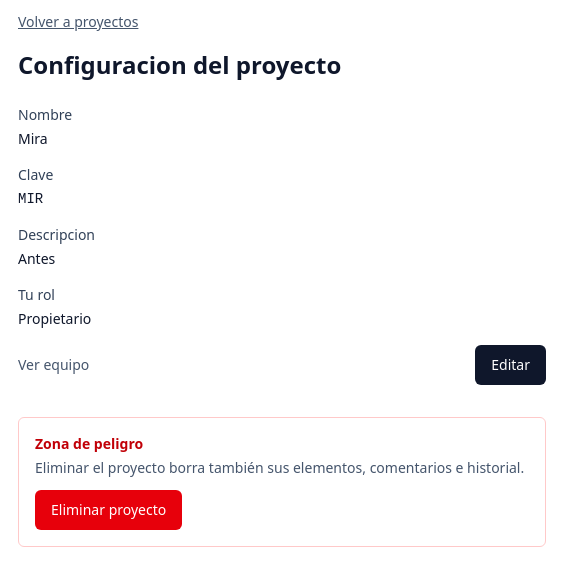
Scenario: ProjectSettingsPage › "Guardar" esta deshabilitado mientras no hay cambios
The image size is (565, 564).
Click the button "Editar" at (511, 365), box x1=475 y1=345 x2=546 y2=385
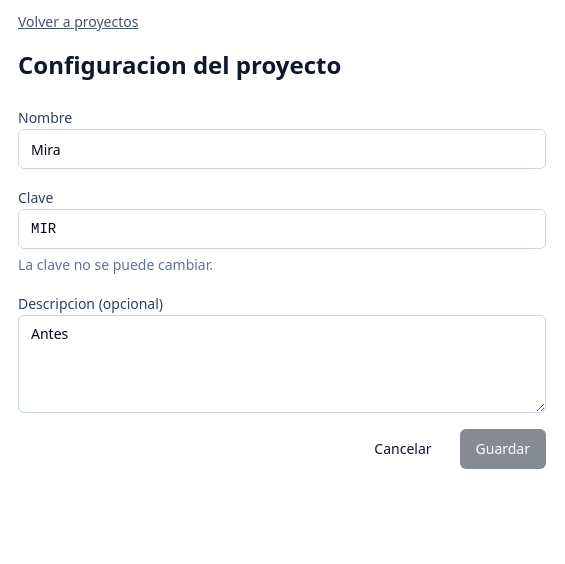
Expected: the button "Guardar" is disabled, x1=460 y1=429 x2=546 y2=469
Type " 2" into the field labelled "Nombre" at (282, 149), box x1=18 y1=129 x2=546 y2=169
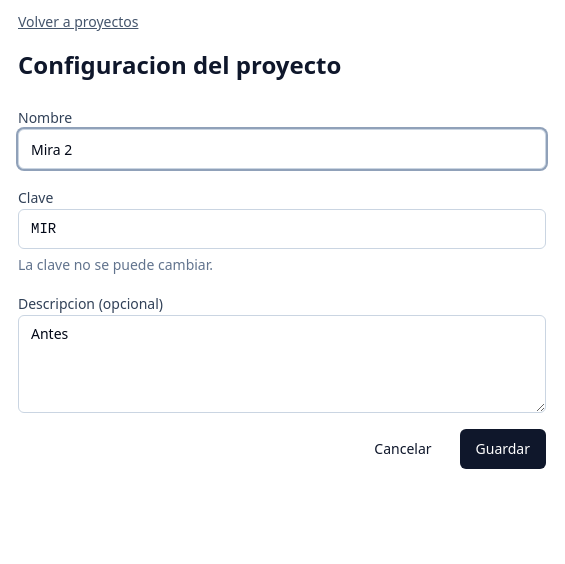
Expected: the button "Guardar" is enabled, x1=460 y1=429 x2=546 y2=469
